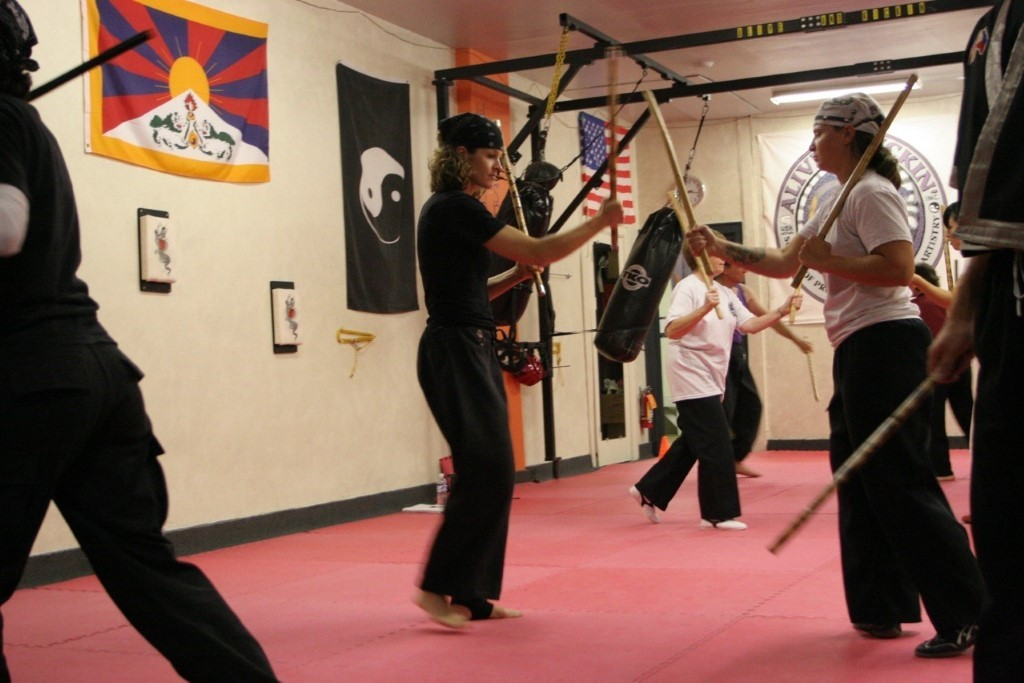baston_e: (779, 364, 940, 549), (800, 76, 912, 285), (640, 95, 714, 269), (30, 28, 151, 101), (492, 124, 545, 289), (607, 50, 620, 244), (689, 247, 722, 317), (939, 205, 954, 288), (804, 351, 817, 397)
baston_v: (138, 24, 159, 42), (765, 541, 780, 560), (905, 69, 923, 81), (785, 307, 796, 326), (640, 85, 654, 99), (605, 42, 620, 55), (536, 286, 549, 298), (788, 279, 801, 291), (490, 116, 504, 127), (610, 238, 621, 250), (705, 267, 715, 276), (718, 314, 725, 320), (814, 396, 820, 402)
